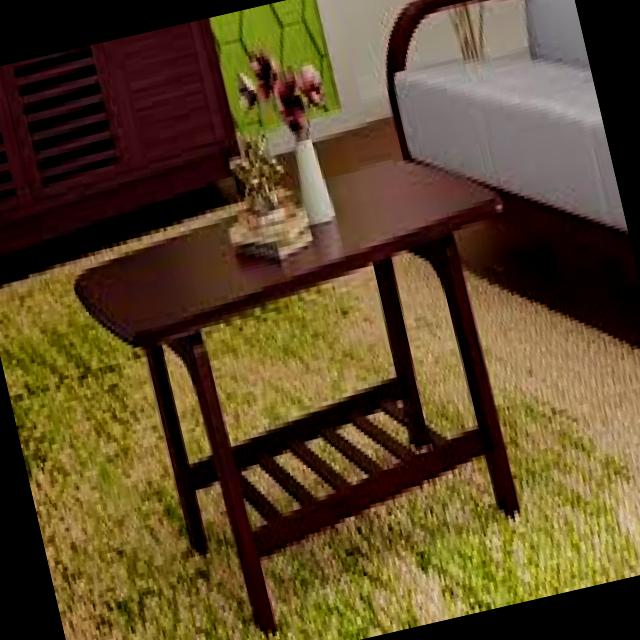obstacle: (52, 101, 601, 622)
